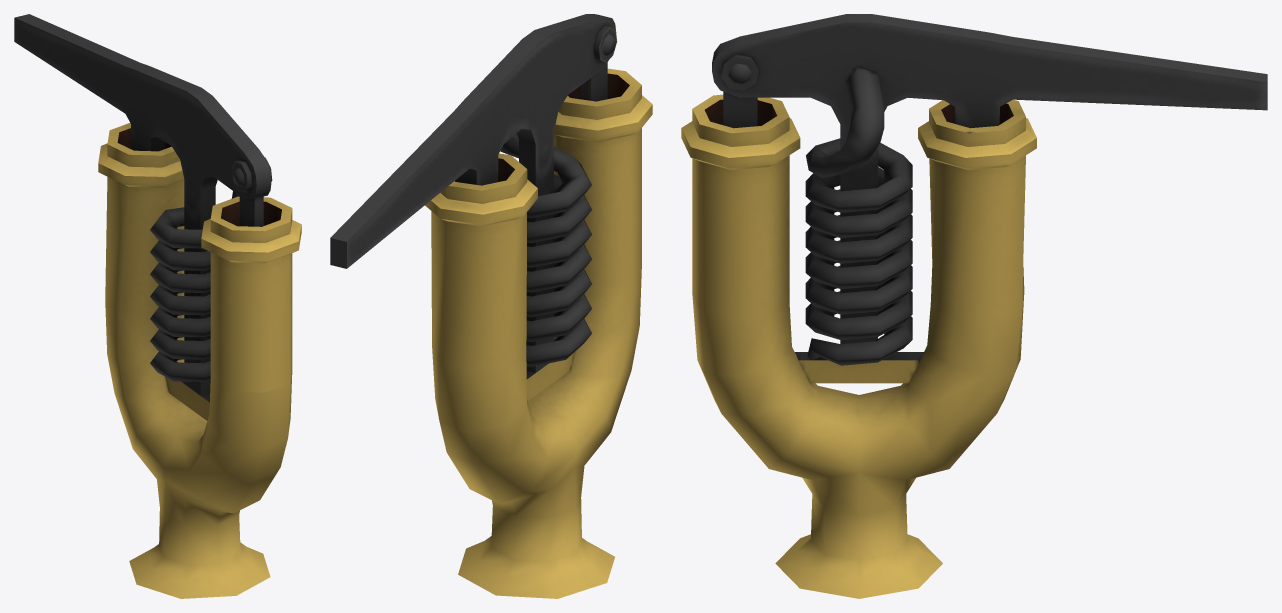
File: SafetyValve_Ramsbottom.obj
The picture shows the model from 3 angles, left to right: view 1: azimuth 30°, elevation 25°; view 2: azimuth 150°, elevation 25°; view 3: azimuth 270°, elevation 25°; orthographic projection. The views are drawn at different scales.
Parts seen in each view (by area): view 1: SafetyValve; view 2: SafetyValve; view 3: SafetyValve.
Part boxes in pixels (x1,y1,x2,y2): SafetyValve: (14,14,301,598); SafetyValve: (330,14,652,598); SafetyValve: (681,14,1267,598).
Size of the model in its own units: 0.1318 by 0.4724 by 0.46.
Materials: 1 (1 with a texture image).
